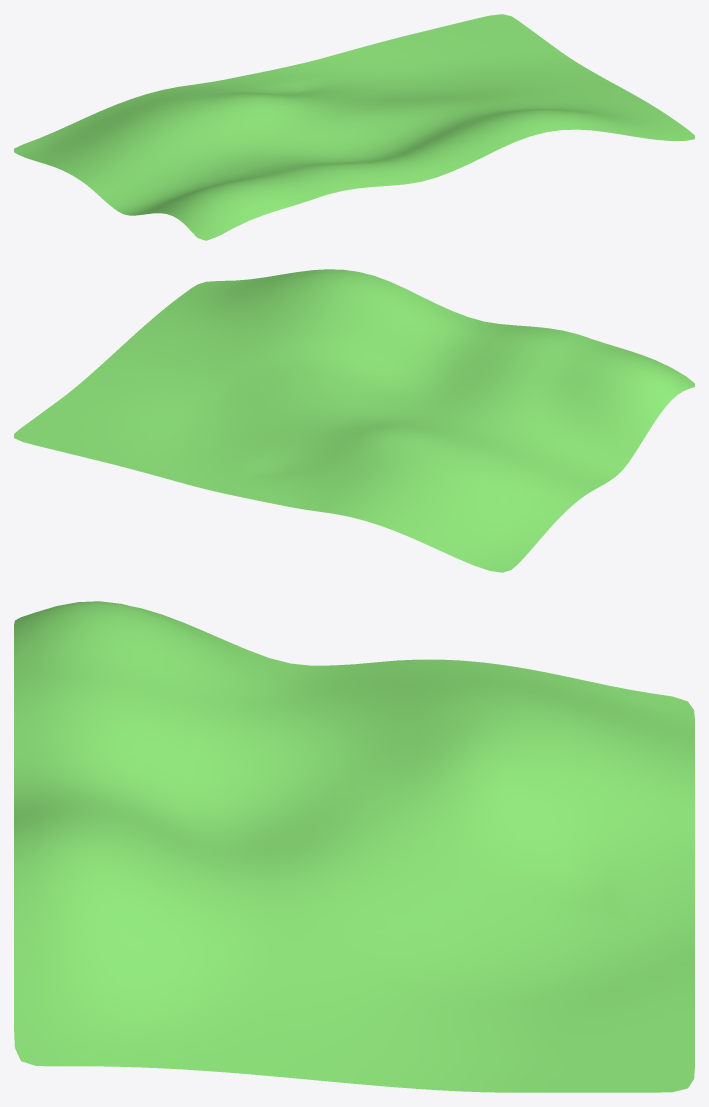
Rendered from Terrain_002.fbx.
The picture shows the model from 3 angles, top to bottom: view 1: azimuth 30°, elevation 25°; view 2: azimuth 150°, elevation 25°; view 3: azimuth 270°, elevation 25°; orthographic projection. The views are drawn at different scales.
Parts seen in each view (by area): view 1: Plane.001; view 2: Plane.001; view 3: Plane.001.
Boxes of the visible parts, left/top/right/bottom form: Plane.001: left=14, top=14, right=694, bottom=240; Plane.001: left=14, top=269, right=694, bottom=572; Plane.001: left=14, top=601, right=694, bottom=1092.
Bounding box in the file's own units: 11551 × 1756 × 7875.
